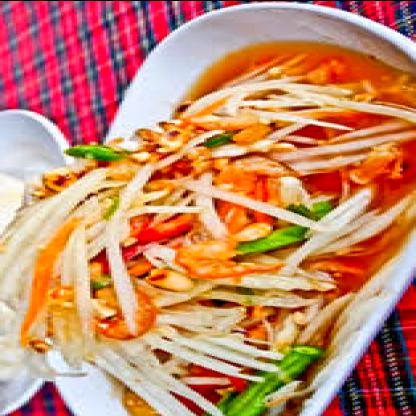Papaya Salad: (26, 27, 414, 414)
